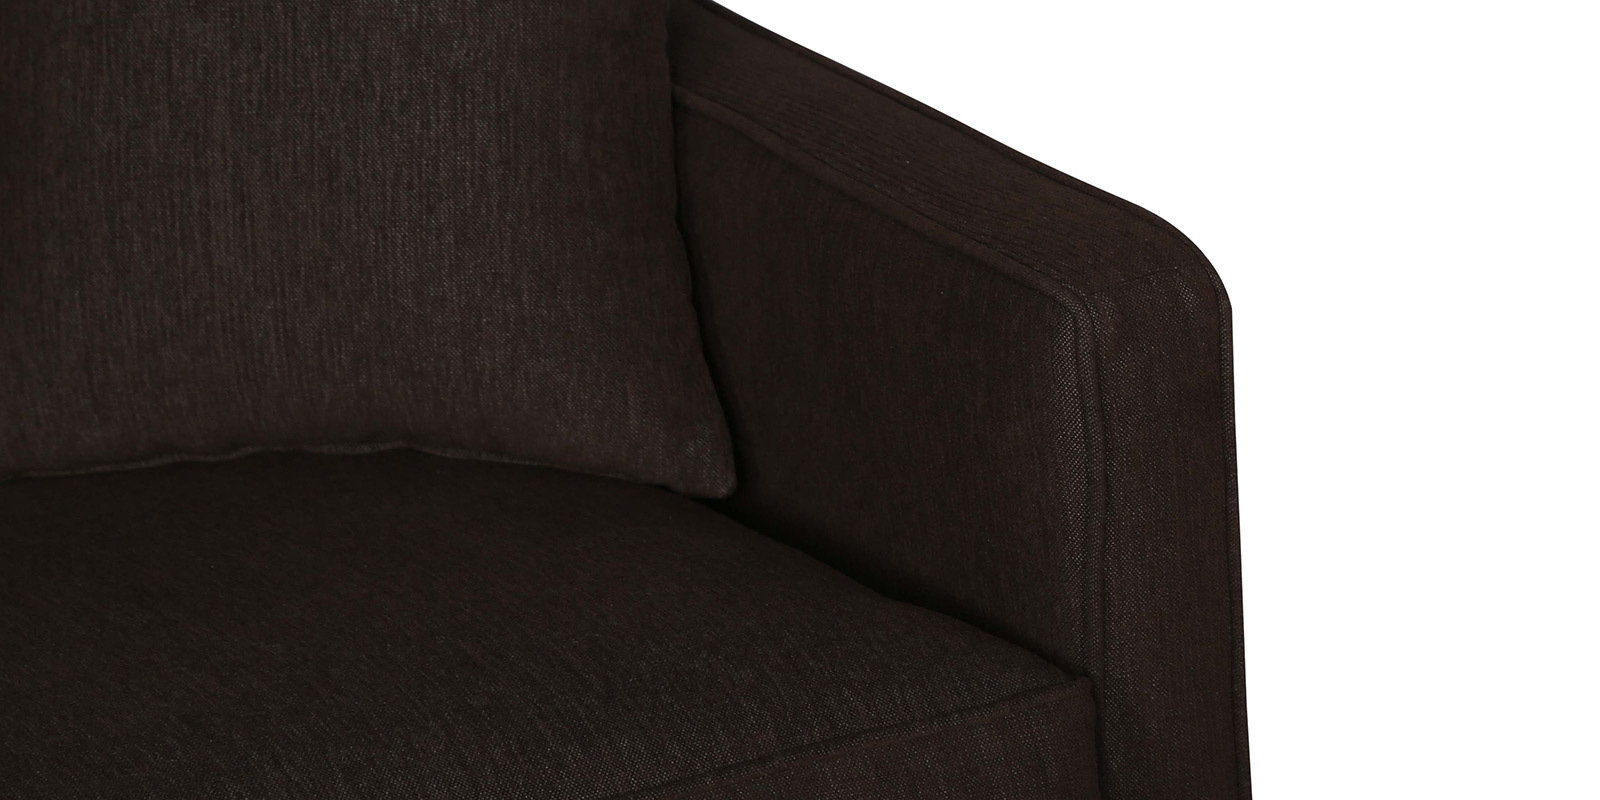Oscar Three Seater Sofa in Chestnut Brown Colour by CasaCraft: (2, 1, 1253, 800)
